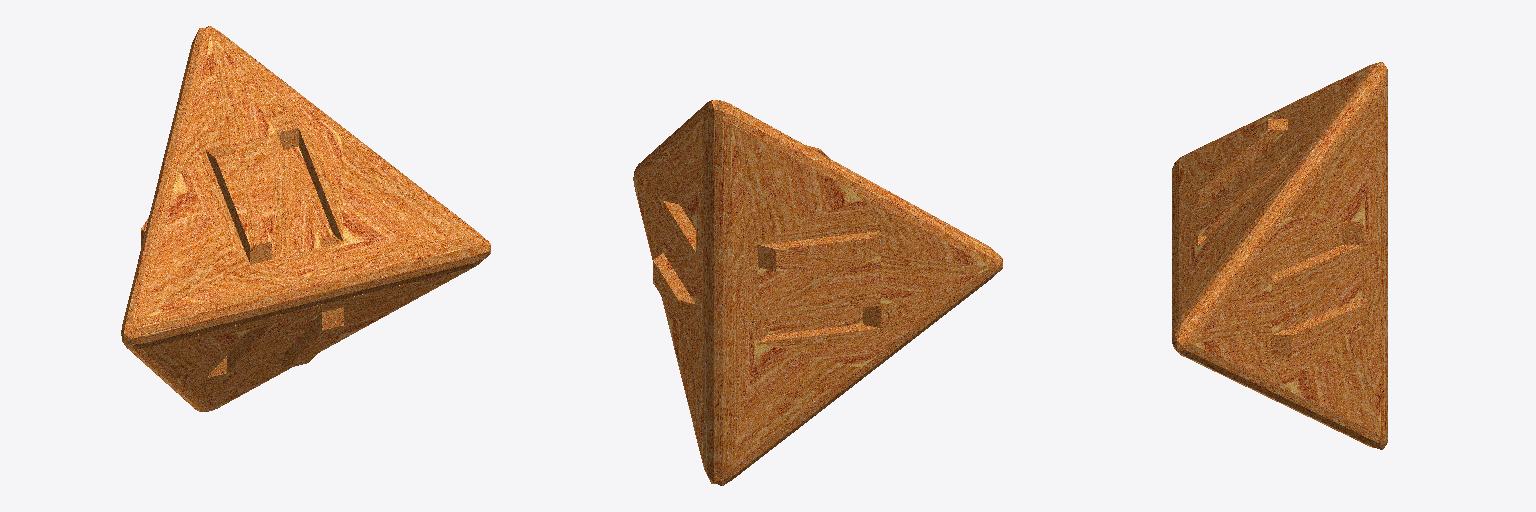
3 views of the same model, side by side, from view 1: azimuth 30°, elevation 25°; view 2: azimuth 150°, elevation 25°; view 3: azimuth 270°, elevation 25° (orthographic).
Visible parts, largest first — view 1: Plane.002; view 2: Plane.002; view 3: Plane.002.
Boxes of the visible parts, <box> form: Plane.002: <box>121,26,490,411</box>; Plane.002: <box>633,100,1002,485</box>; Plane.002: <box>1172,62,1387,449</box>.
Size of the model in its own units: 3.59 by 3.59 by 1.84.
Materials: 1 (1 with a texture image).